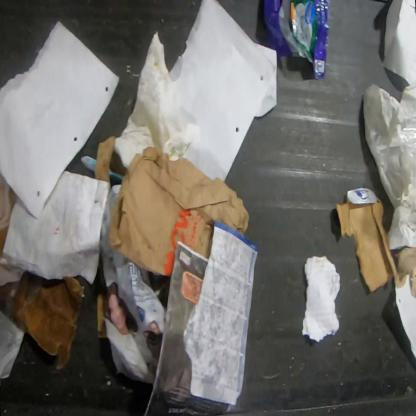cardboard: (335, 187, 398, 294), (95, 136, 128, 184), (96, 292, 110, 339)
soft_plastic: (263, 0, 331, 81), (0, 263, 45, 361), (399, 119, 416, 183), (0, 170, 13, 232)
